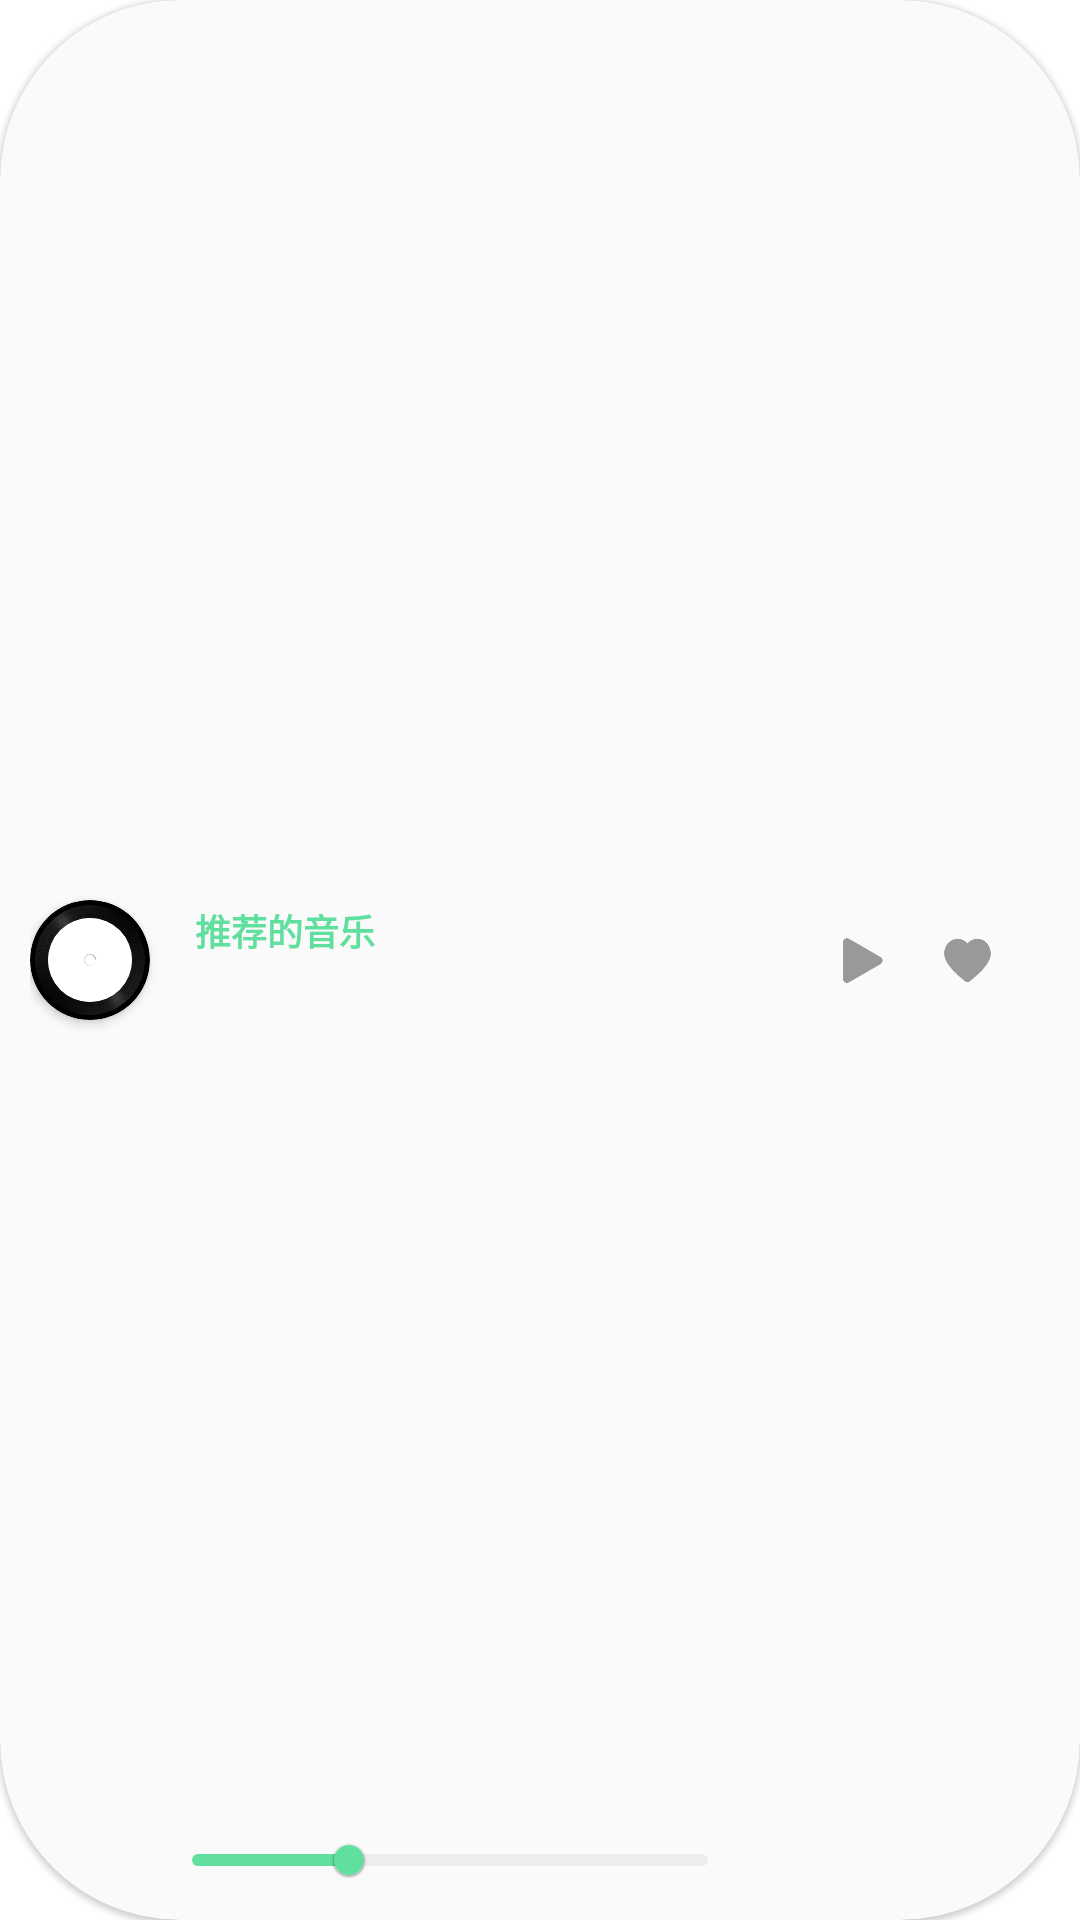

Named icons in this screenshot (1080 x 1920) and their bounding boxes, (x1, y1, x2, y2):
collection: (944, 939, 991, 982)
start: (843, 938, 883, 983)
